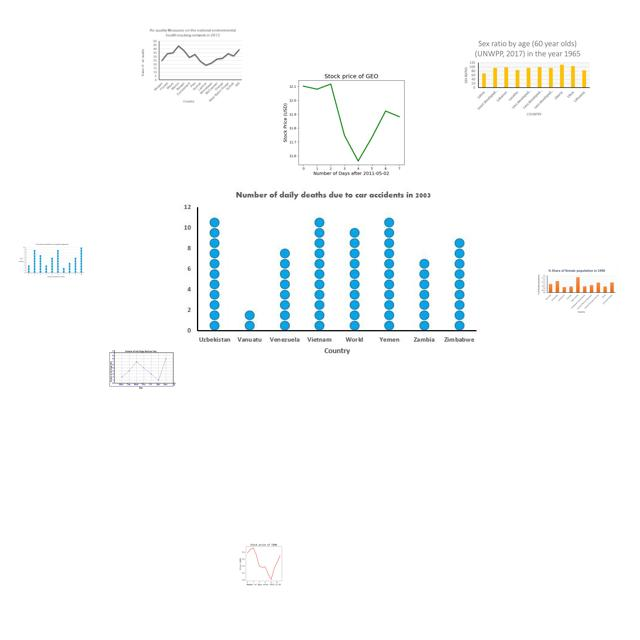Graph: (180, 183, 485, 364), (276, 67, 423, 177), (461, 36, 592, 119), (139, 27, 246, 104), (536, 267, 618, 316), (109, 349, 177, 389), (233, 541, 293, 586), (18, 243, 85, 278)
